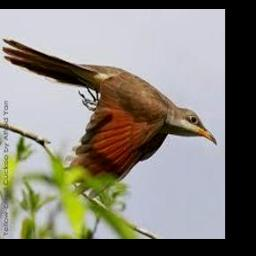Cuckoo: (3, 38, 216, 198)
